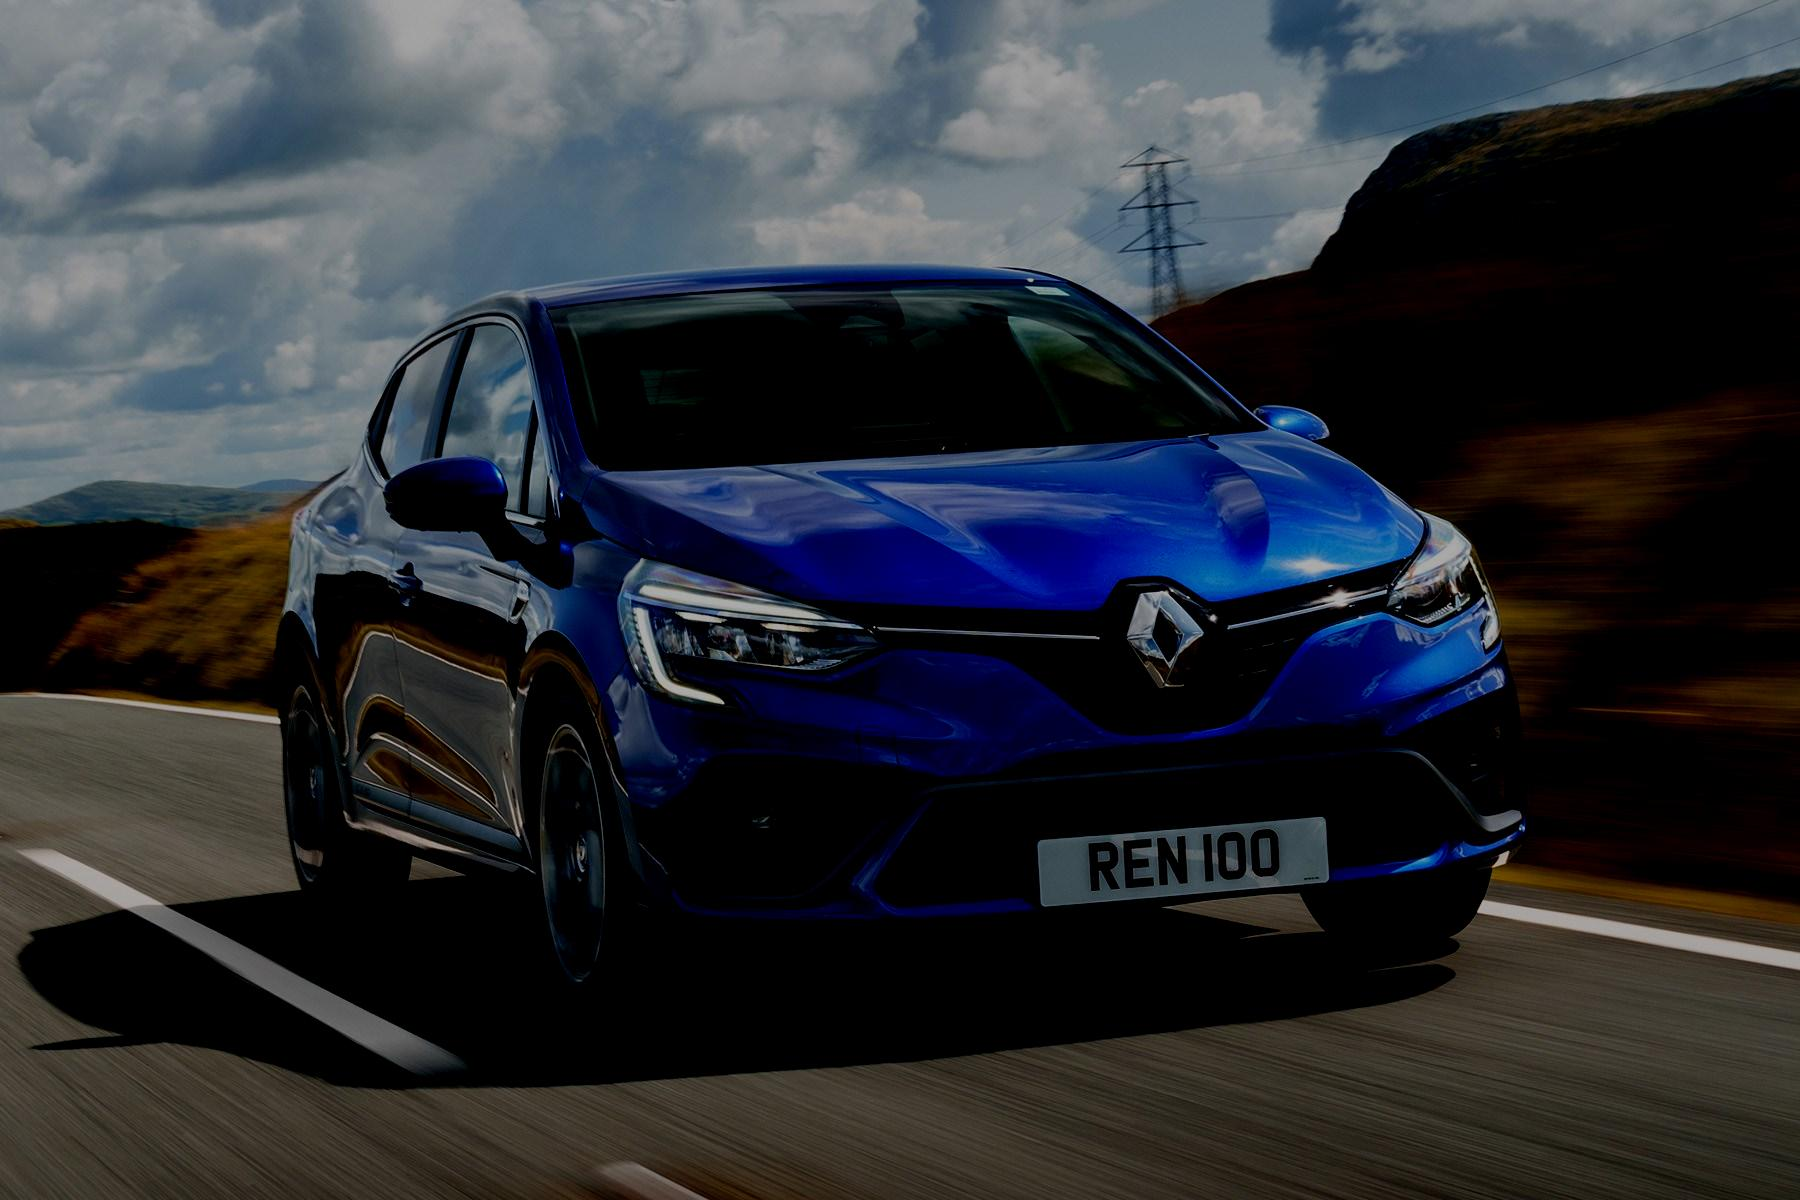Renault: (1105, 579, 1215, 714)
